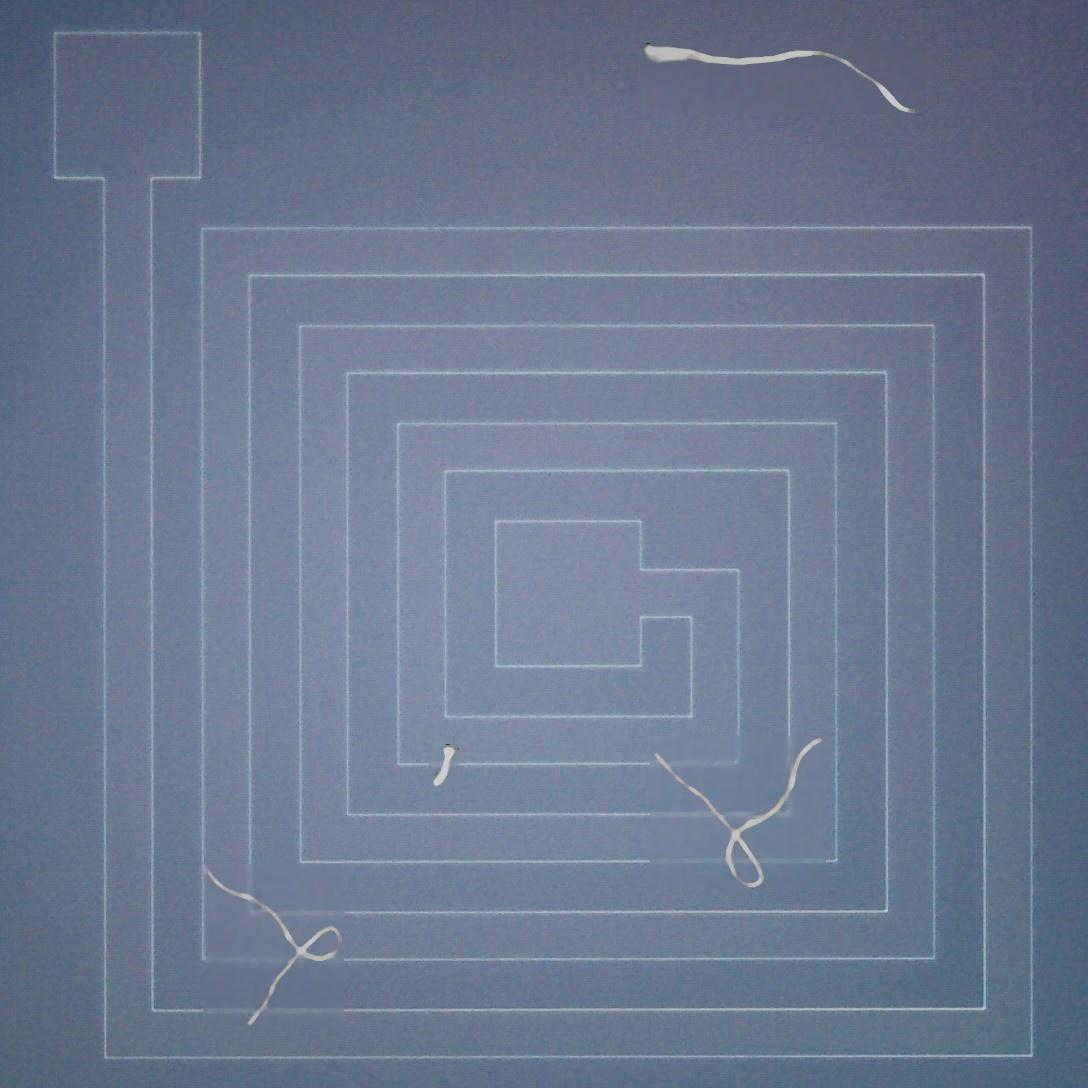foreign: (651, 736, 834, 888), (192, 856, 349, 1031), (639, 36, 924, 121), (429, 741, 463, 794)
